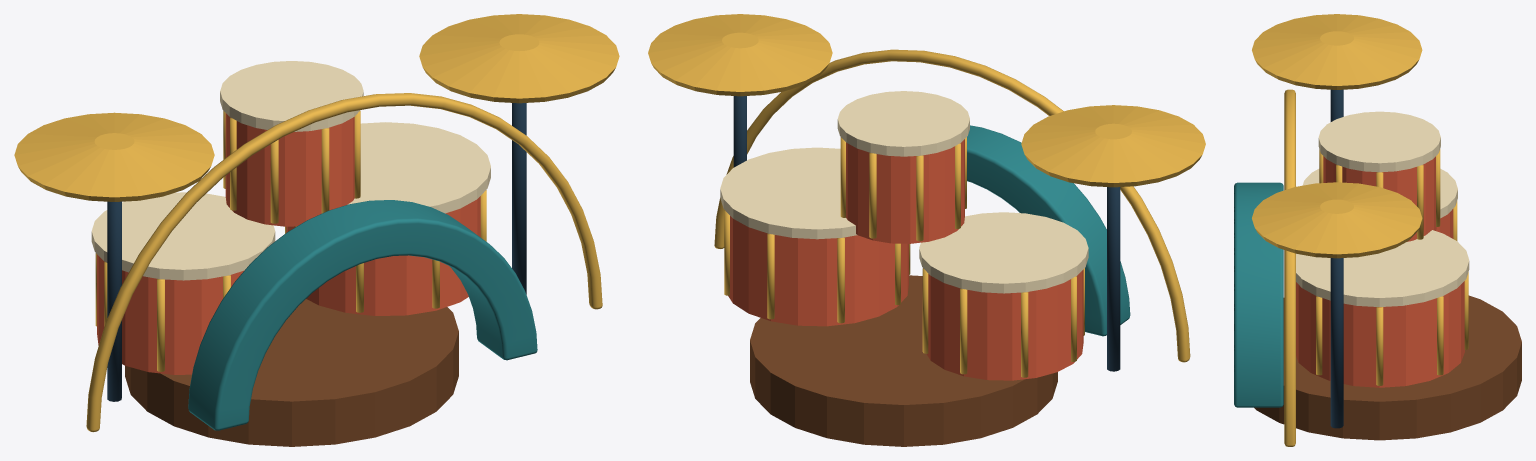
File: percussion-pavilion.glb
3 renders of one model, left to right at view 1: azimuth 30°, elevation 25°; view 2: azimuth 150°, elevation 25°; view 3: azimuth 270°, elevation 25°, orthographic. The views are drawn at different scales.
Visible parts, largest first — view 1: Structure, AnimatedDetail; view 2: Structure, AnimatedDetail; view 3: Structure, AnimatedDetail.
Part boxes in pixels (x1=…): Structure: x1=86, y1=61, x2=602, y2=446; AnimatedDetail: x1=14, y1=14, x2=619, y2=201; Structure: x1=714, y1=49, x2=1190, y2=446; AnimatedDetail: x1=648, y1=14, x2=1205, y2=187; Structure: x1=1234, y1=89, x2=1521, y2=446; AnimatedDetail: x1=1252, y1=14, x2=1422, y2=258.
Bounding box in the file's own units: 4 × 2.08 × 2.02.
